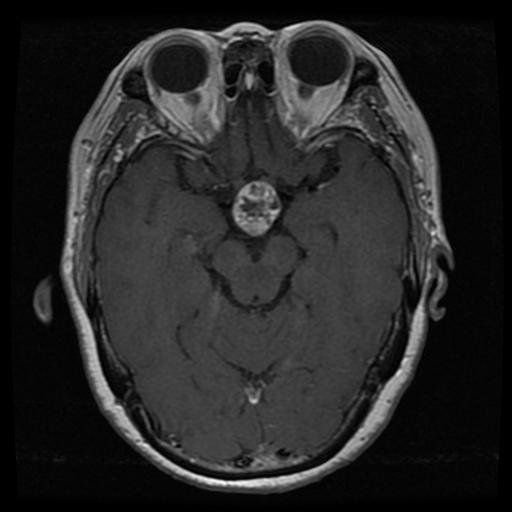Pituirity_tumour: (231, 180, 282, 236)
